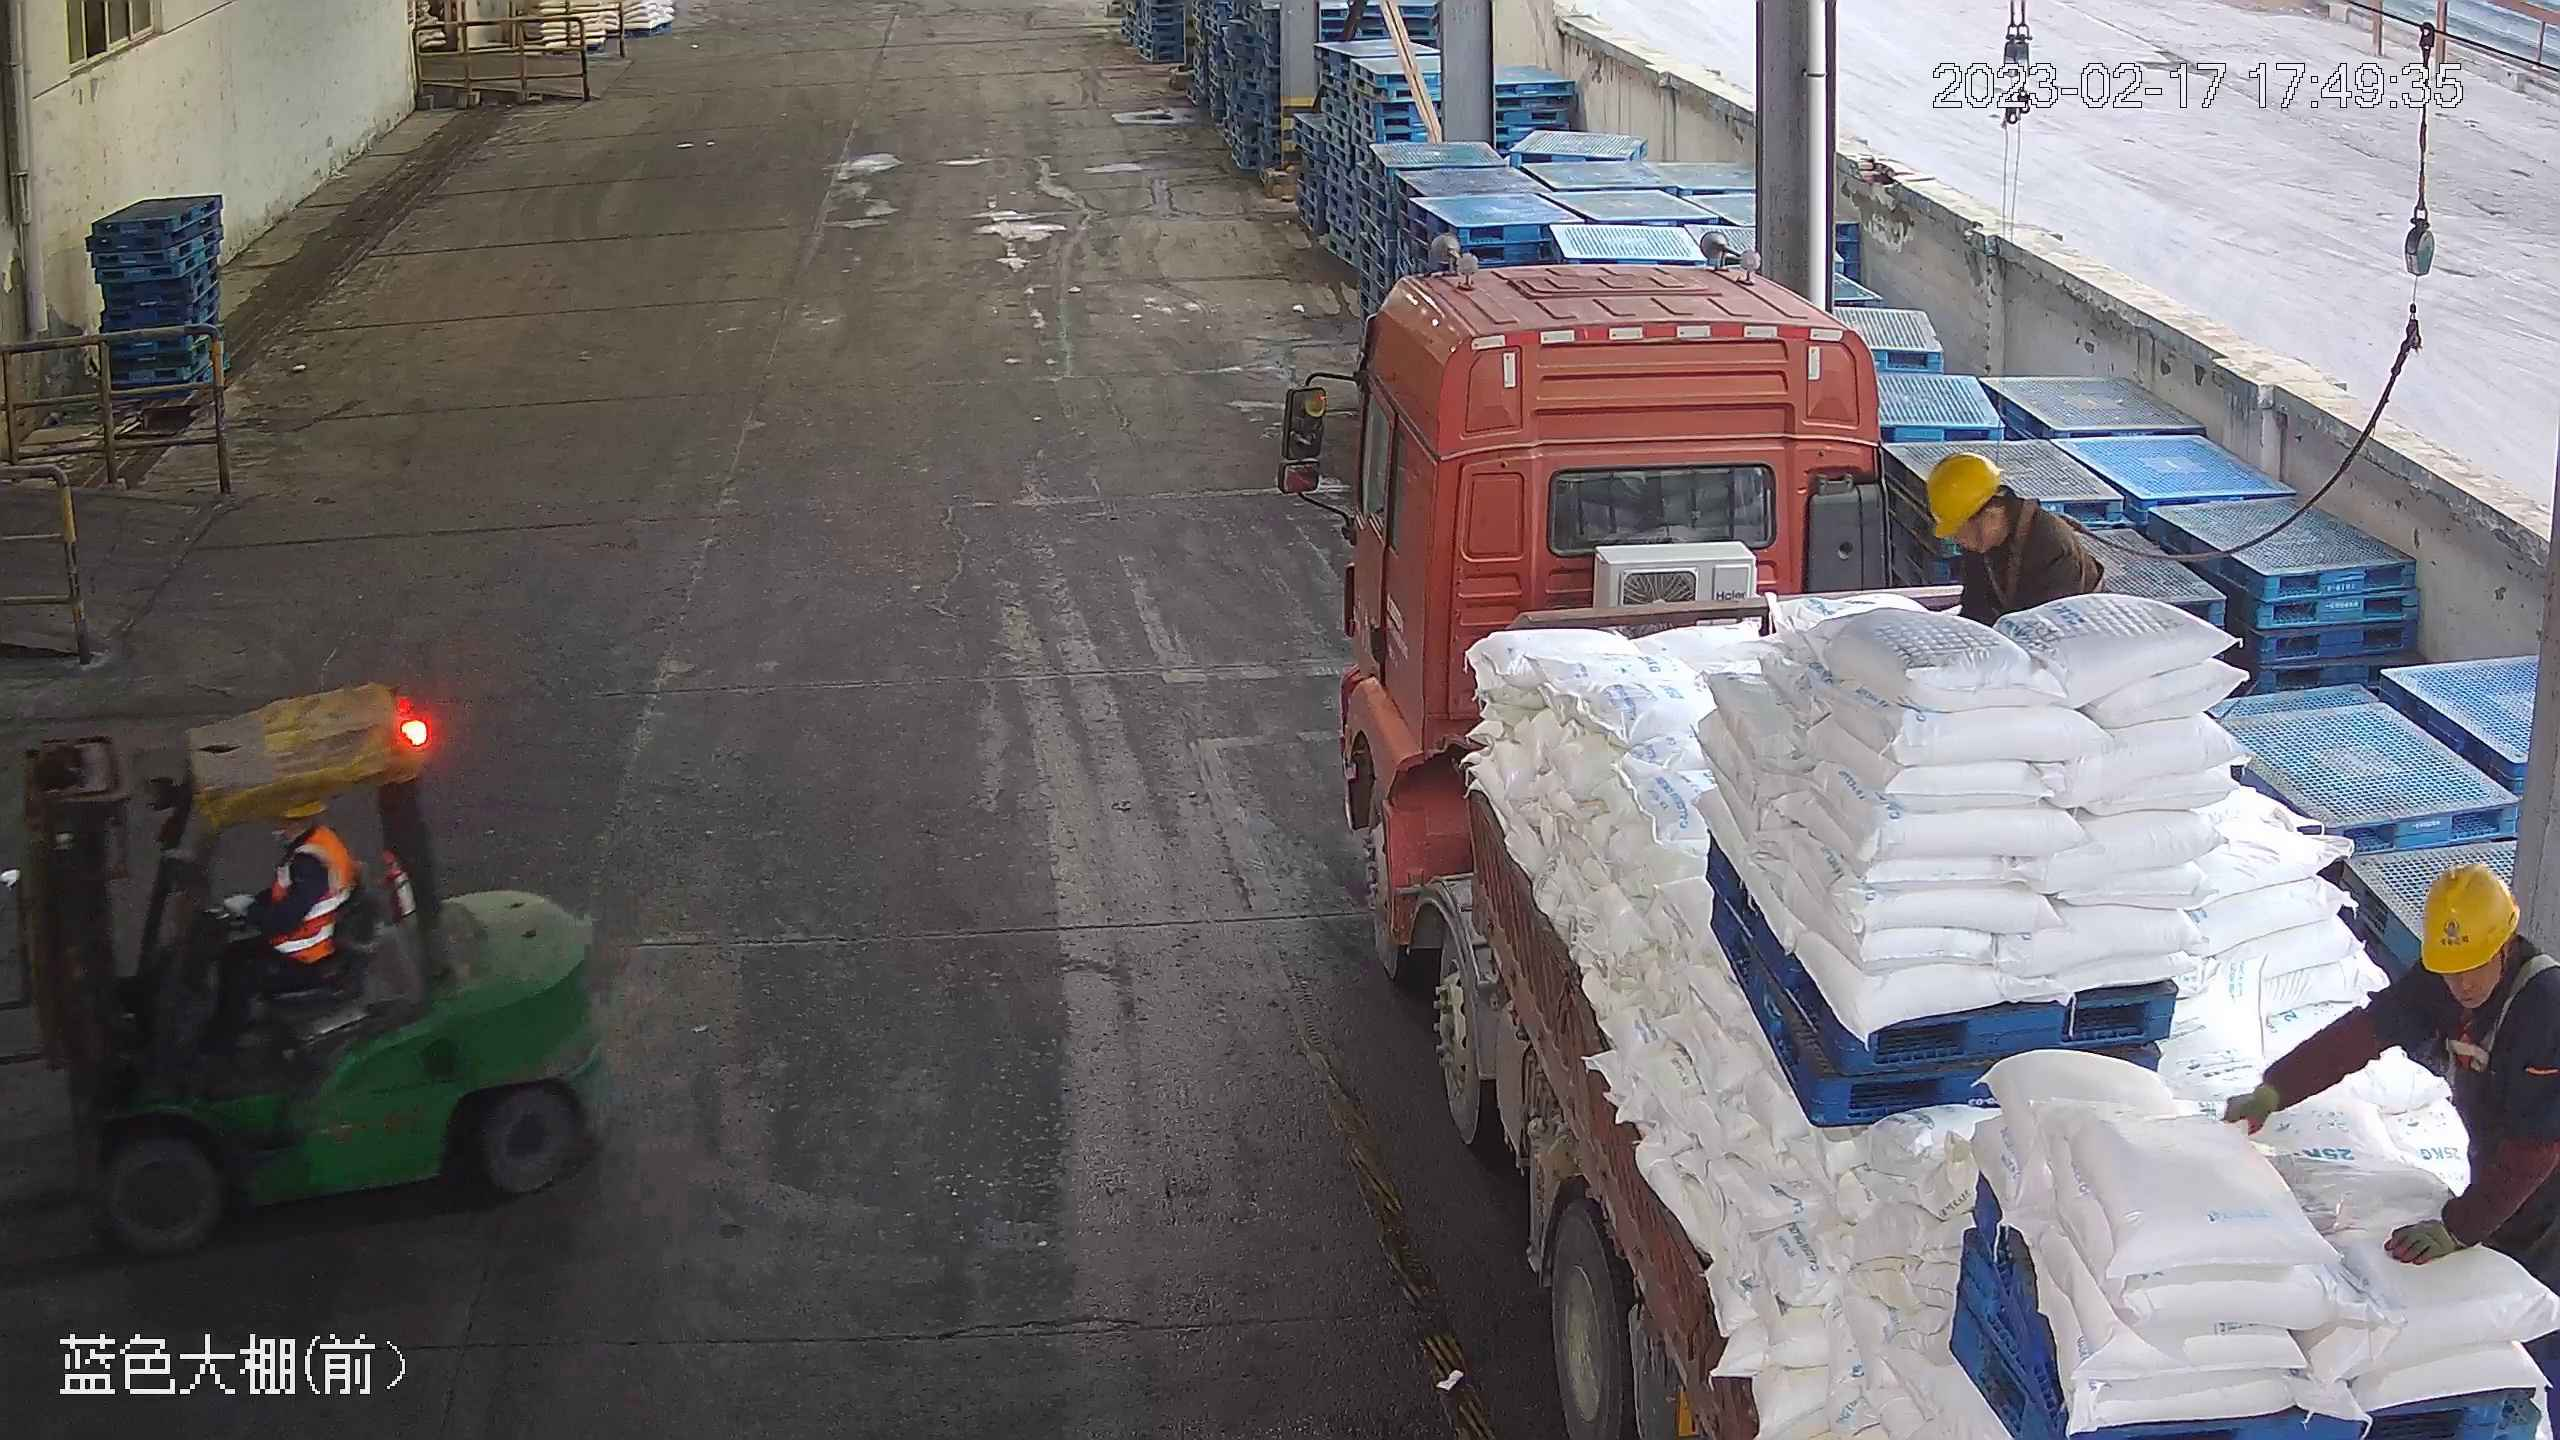belt: (2440, 971, 2557, 1073), (1980, 506, 2055, 605)
head: (2394, 859, 2559, 1076), (1921, 448, 2088, 573), (264, 801, 358, 889)
helmet: (2413, 858, 2520, 974), (1923, 449, 2004, 540)
people: (2220, 852, 2559, 1434), (185, 799, 362, 1058)
truck: (1267, 255, 2557, 1440)
